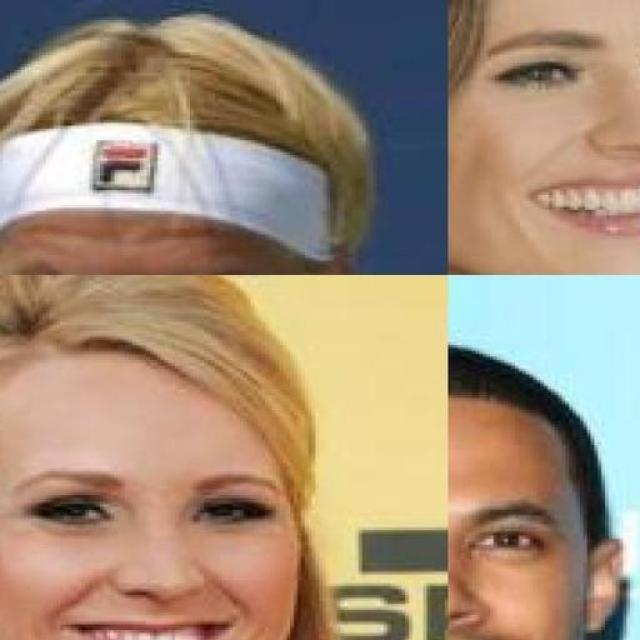bareface: (0, 351, 310, 640)
